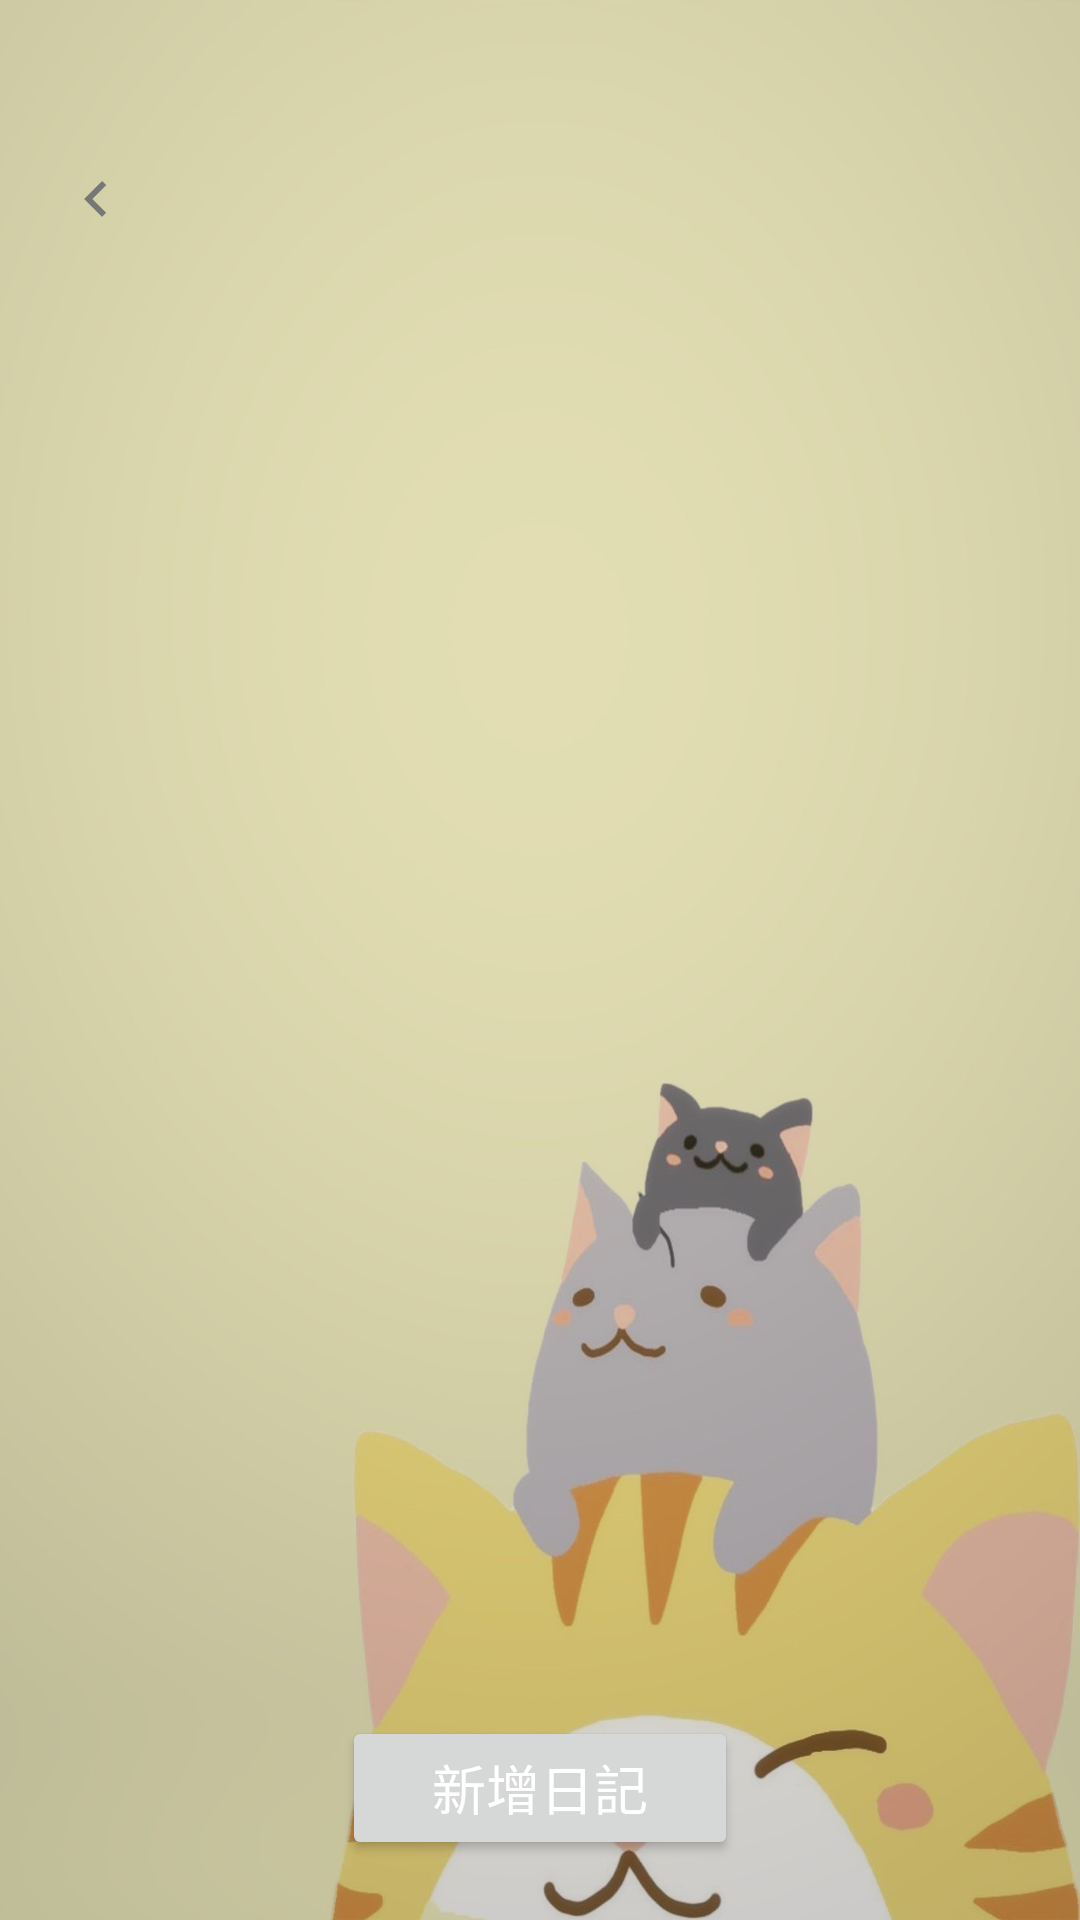

Named icons in this screenshot (1080w x 1920h) and their bounding boxes, (x1, y1, x2, y2):
pointer left: (84, 181, 106, 217)
